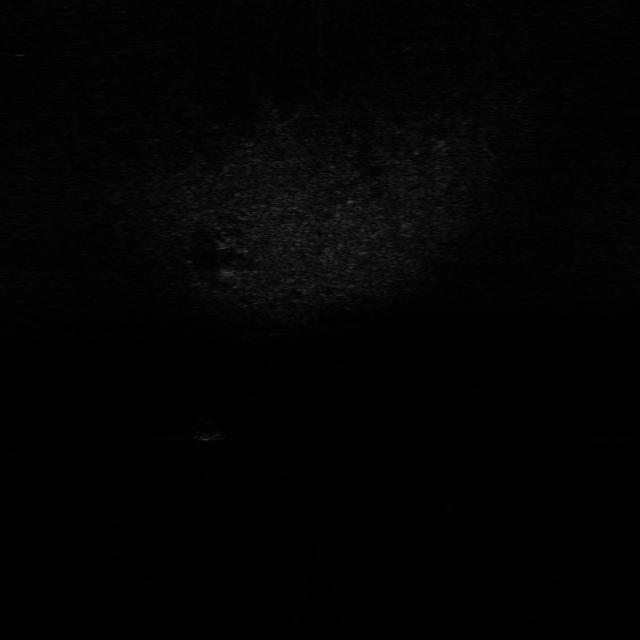ball: (183, 412, 226, 443)
